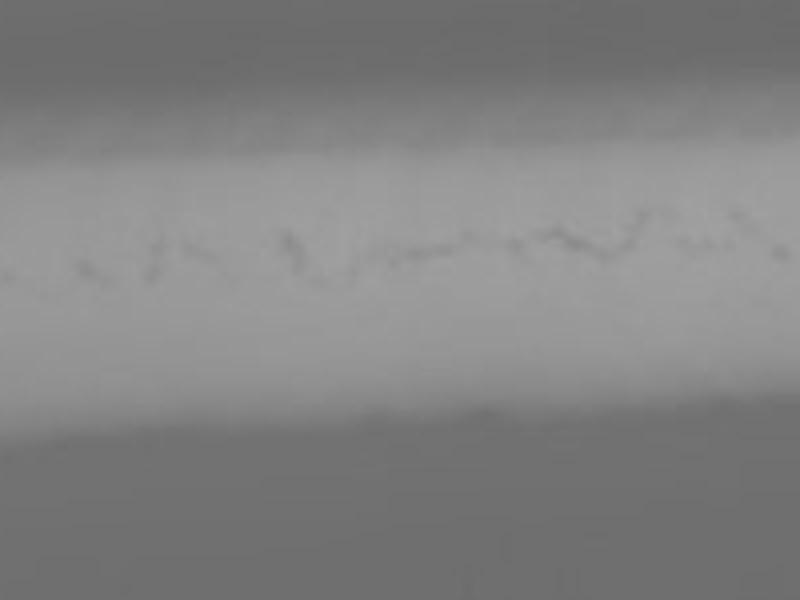defect: (280, 230, 306, 255), (631, 199, 657, 224), (767, 239, 794, 262), (1, 260, 19, 293), (537, 223, 564, 245), (591, 245, 615, 268), (452, 228, 477, 249), (504, 235, 526, 258), (74, 259, 98, 280), (175, 232, 196, 256), (341, 261, 363, 283), (565, 233, 588, 254), (673, 230, 694, 253), (427, 243, 453, 261), (398, 247, 427, 262), (149, 238, 172, 256), (195, 247, 218, 265), (718, 234, 736, 256), (142, 265, 163, 283), (730, 204, 750, 222), (618, 239, 638, 256), (695, 231, 715, 248), (292, 258, 310, 275), (625, 225, 639, 239)
